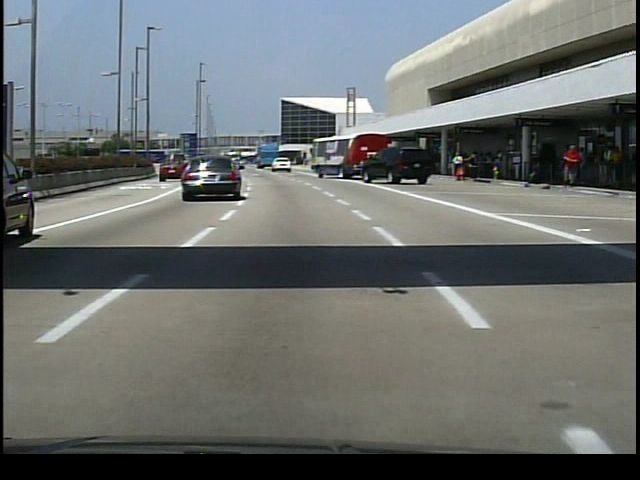person: (558, 141, 584, 189), (452, 151, 467, 184)
